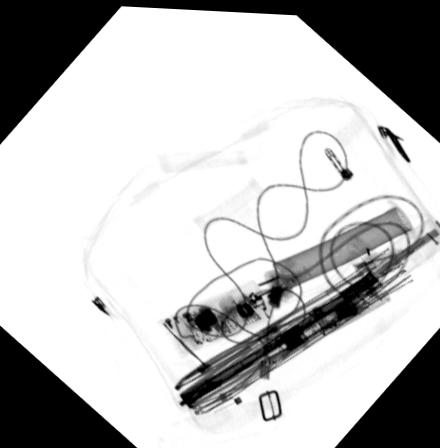Baton: (153, 259, 309, 357)
